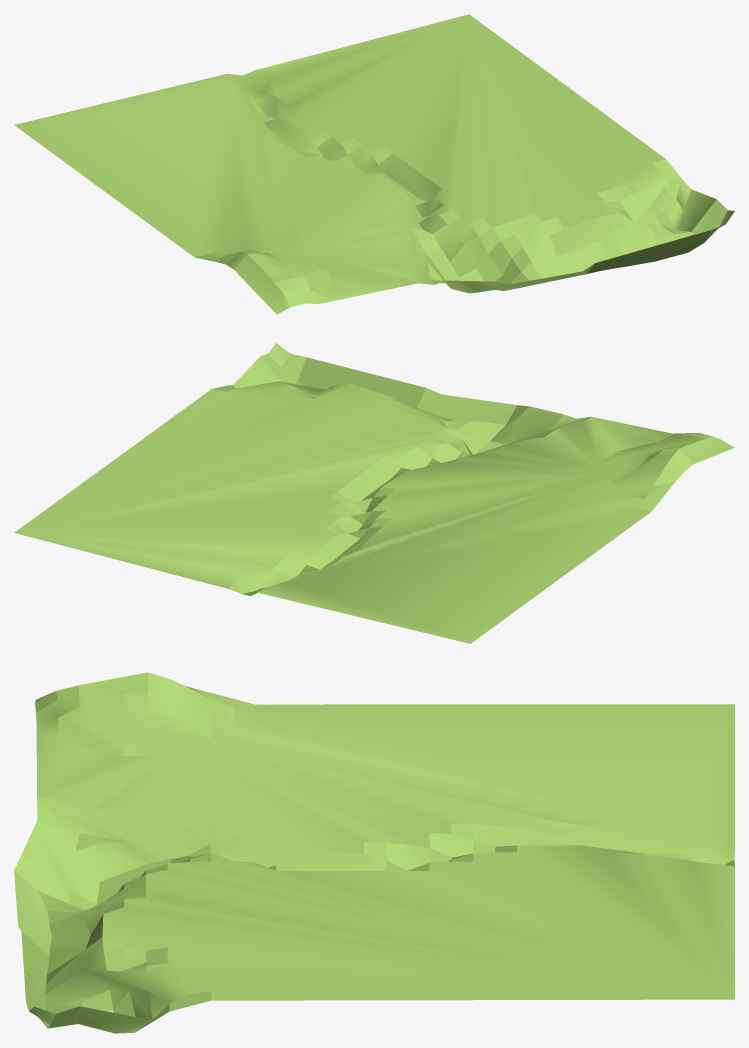
The model's file is LowPolyTerrain-Modified.fbx.
3 renders of one model, top to bottom at view 1: azimuth 30°, elevation 25°; view 2: azimuth 150°, elevation 25°; view 3: azimuth 270°, elevation 25°, orthographic. The views are drawn at different scales.
Parts seen in each view (by area): view 1: LowpolyTerrain; view 2: LowpolyTerrain; view 3: LowpolyTerrain.
Boxes of the visible parts, x1,y1,x2,y2 form: LowpolyTerrain: (14, 14, 734, 314); LowpolyTerrain: (14, 343, 734, 643); LowpolyTerrain: (14, 672, 734, 1033).
Bounding box in the file's own units: 10093 × 1607 × 10328.
